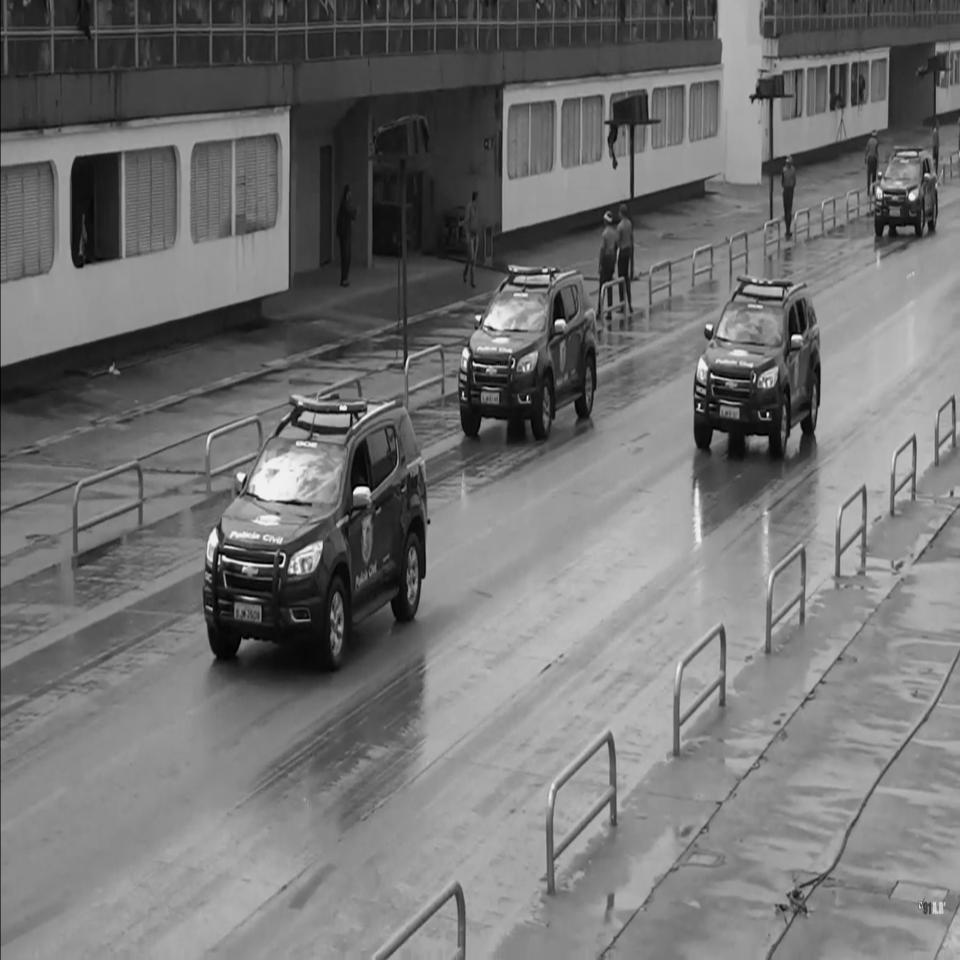viatura: (201, 391, 433, 675), (689, 266, 824, 464), (456, 259, 598, 443)
